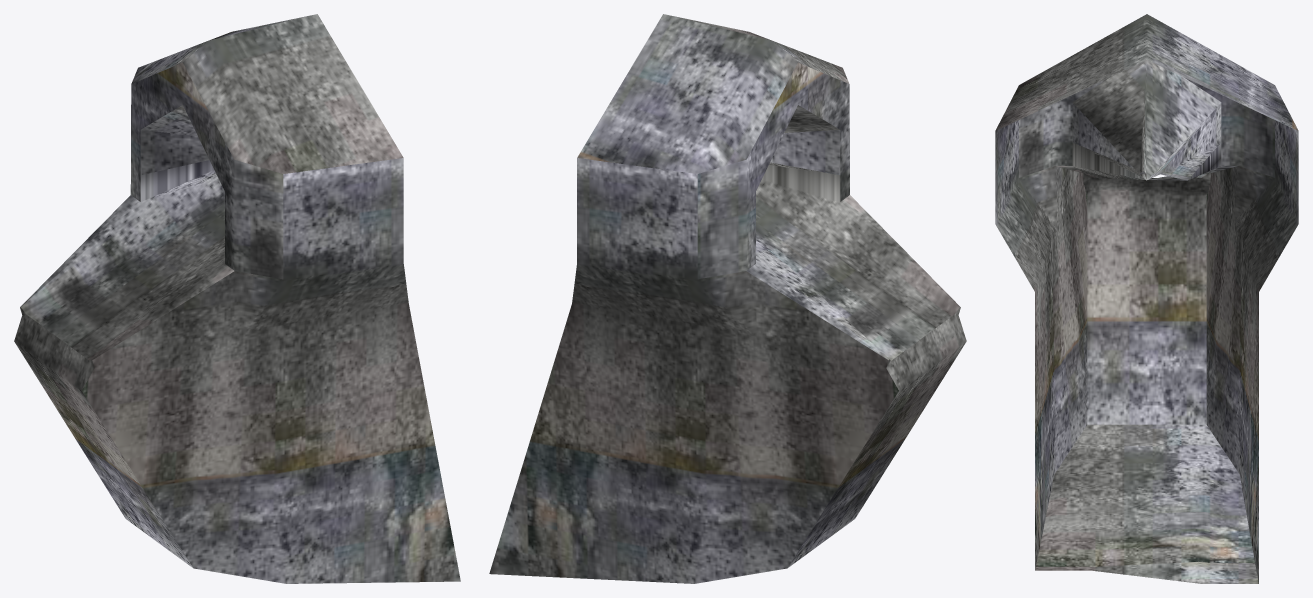
Rendered from Elemento del escenario obj.obj.
3 renders of one model, left to right at view 1: azimuth 30°, elevation 25°; view 2: azimuth 150°, elevation 25°; view 3: azimuth 270°, elevation 25°, orthographic. The views are drawn at different scales.
Parts seen in each view (by area): view 1: Elemento del escenario obj; view 2: Elemento del escenario obj; view 3: Elemento del escenario obj.
Part boxes in pixels (x1,y1,x2,y2): Elemento del escenario obj: [14, 14, 460, 583]; Elemento del escenario obj: [489, 14, 966, 583]; Elemento del escenario obj: [995, 14, 1298, 583].
Size of the model in its own units: 5.64 by 7.66 by 4.42.
